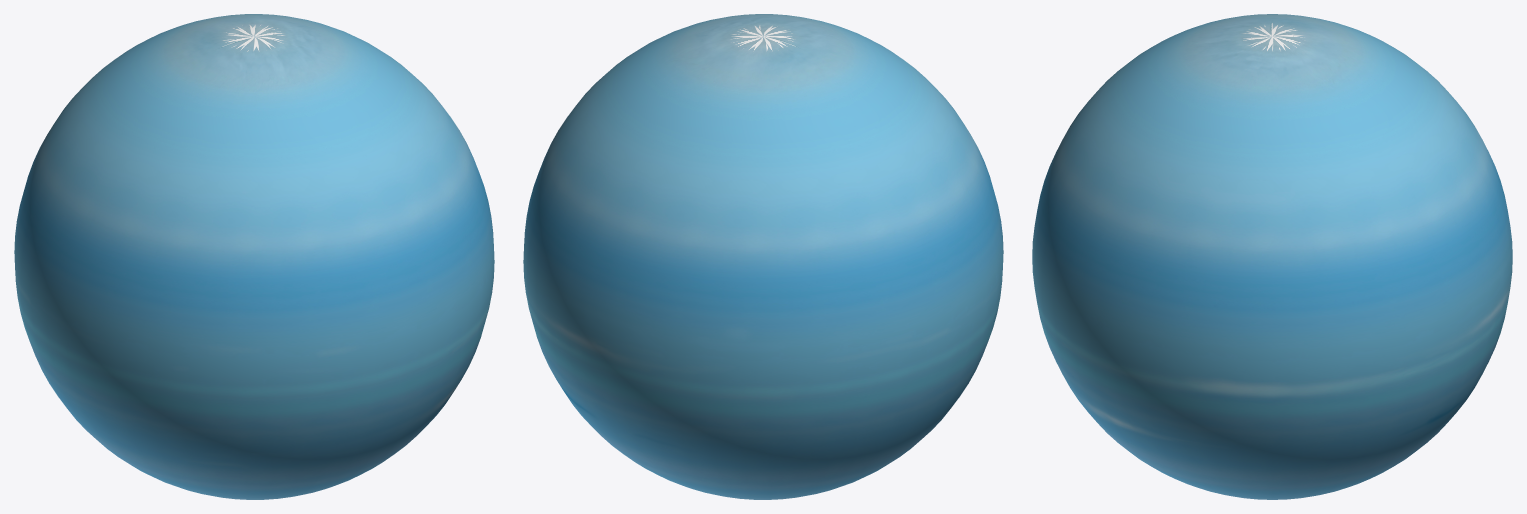
The model's file is uranus.obj.
3 renders of one model, left to right at view 1: azimuth 30°, elevation 25°; view 2: azimuth 150°, elevation 25°; view 3: azimuth 270°, elevation 25°, orthographic.
Parts seen in each view (by area): view 1: uranus; view 2: uranus; view 3: uranus.
Boxes of the visible parts, x1,y1,x2,y2 form: uranus: (14, 14, 494, 499); uranus: (523, 14, 1003, 499); uranus: (1032, 14, 1512, 499).
Bounding box in the file's own units: 4.92 × 4.97 × 4.92.
1 material, 1 textured.
